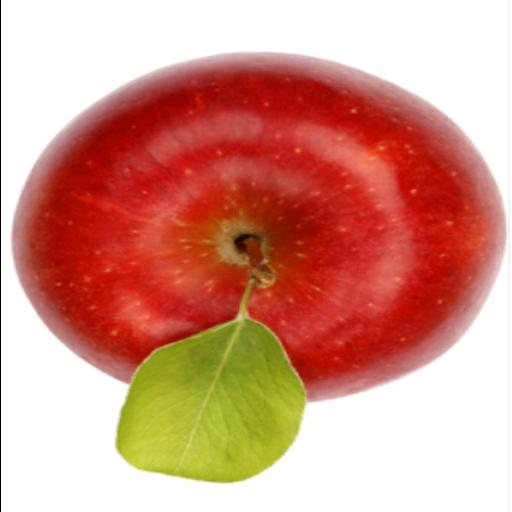apple: (14, 52, 504, 400)
